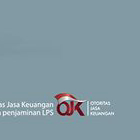ojk: (55, 91, 118, 118)
